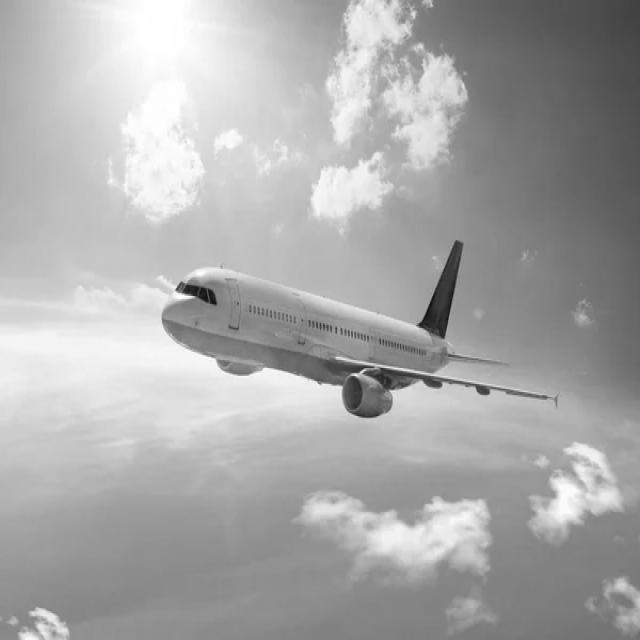Aircraft: (161, 242, 564, 422)
